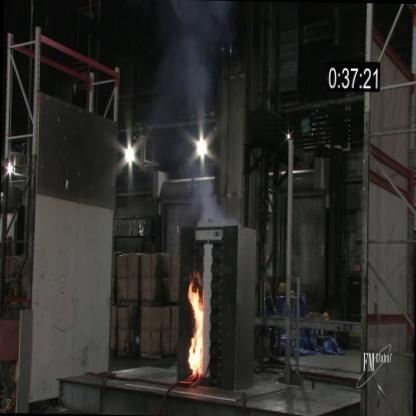fire: (181, 276, 210, 376)
